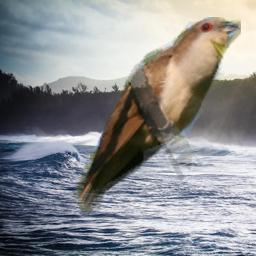Cuckoo: (70, 17, 241, 218)
